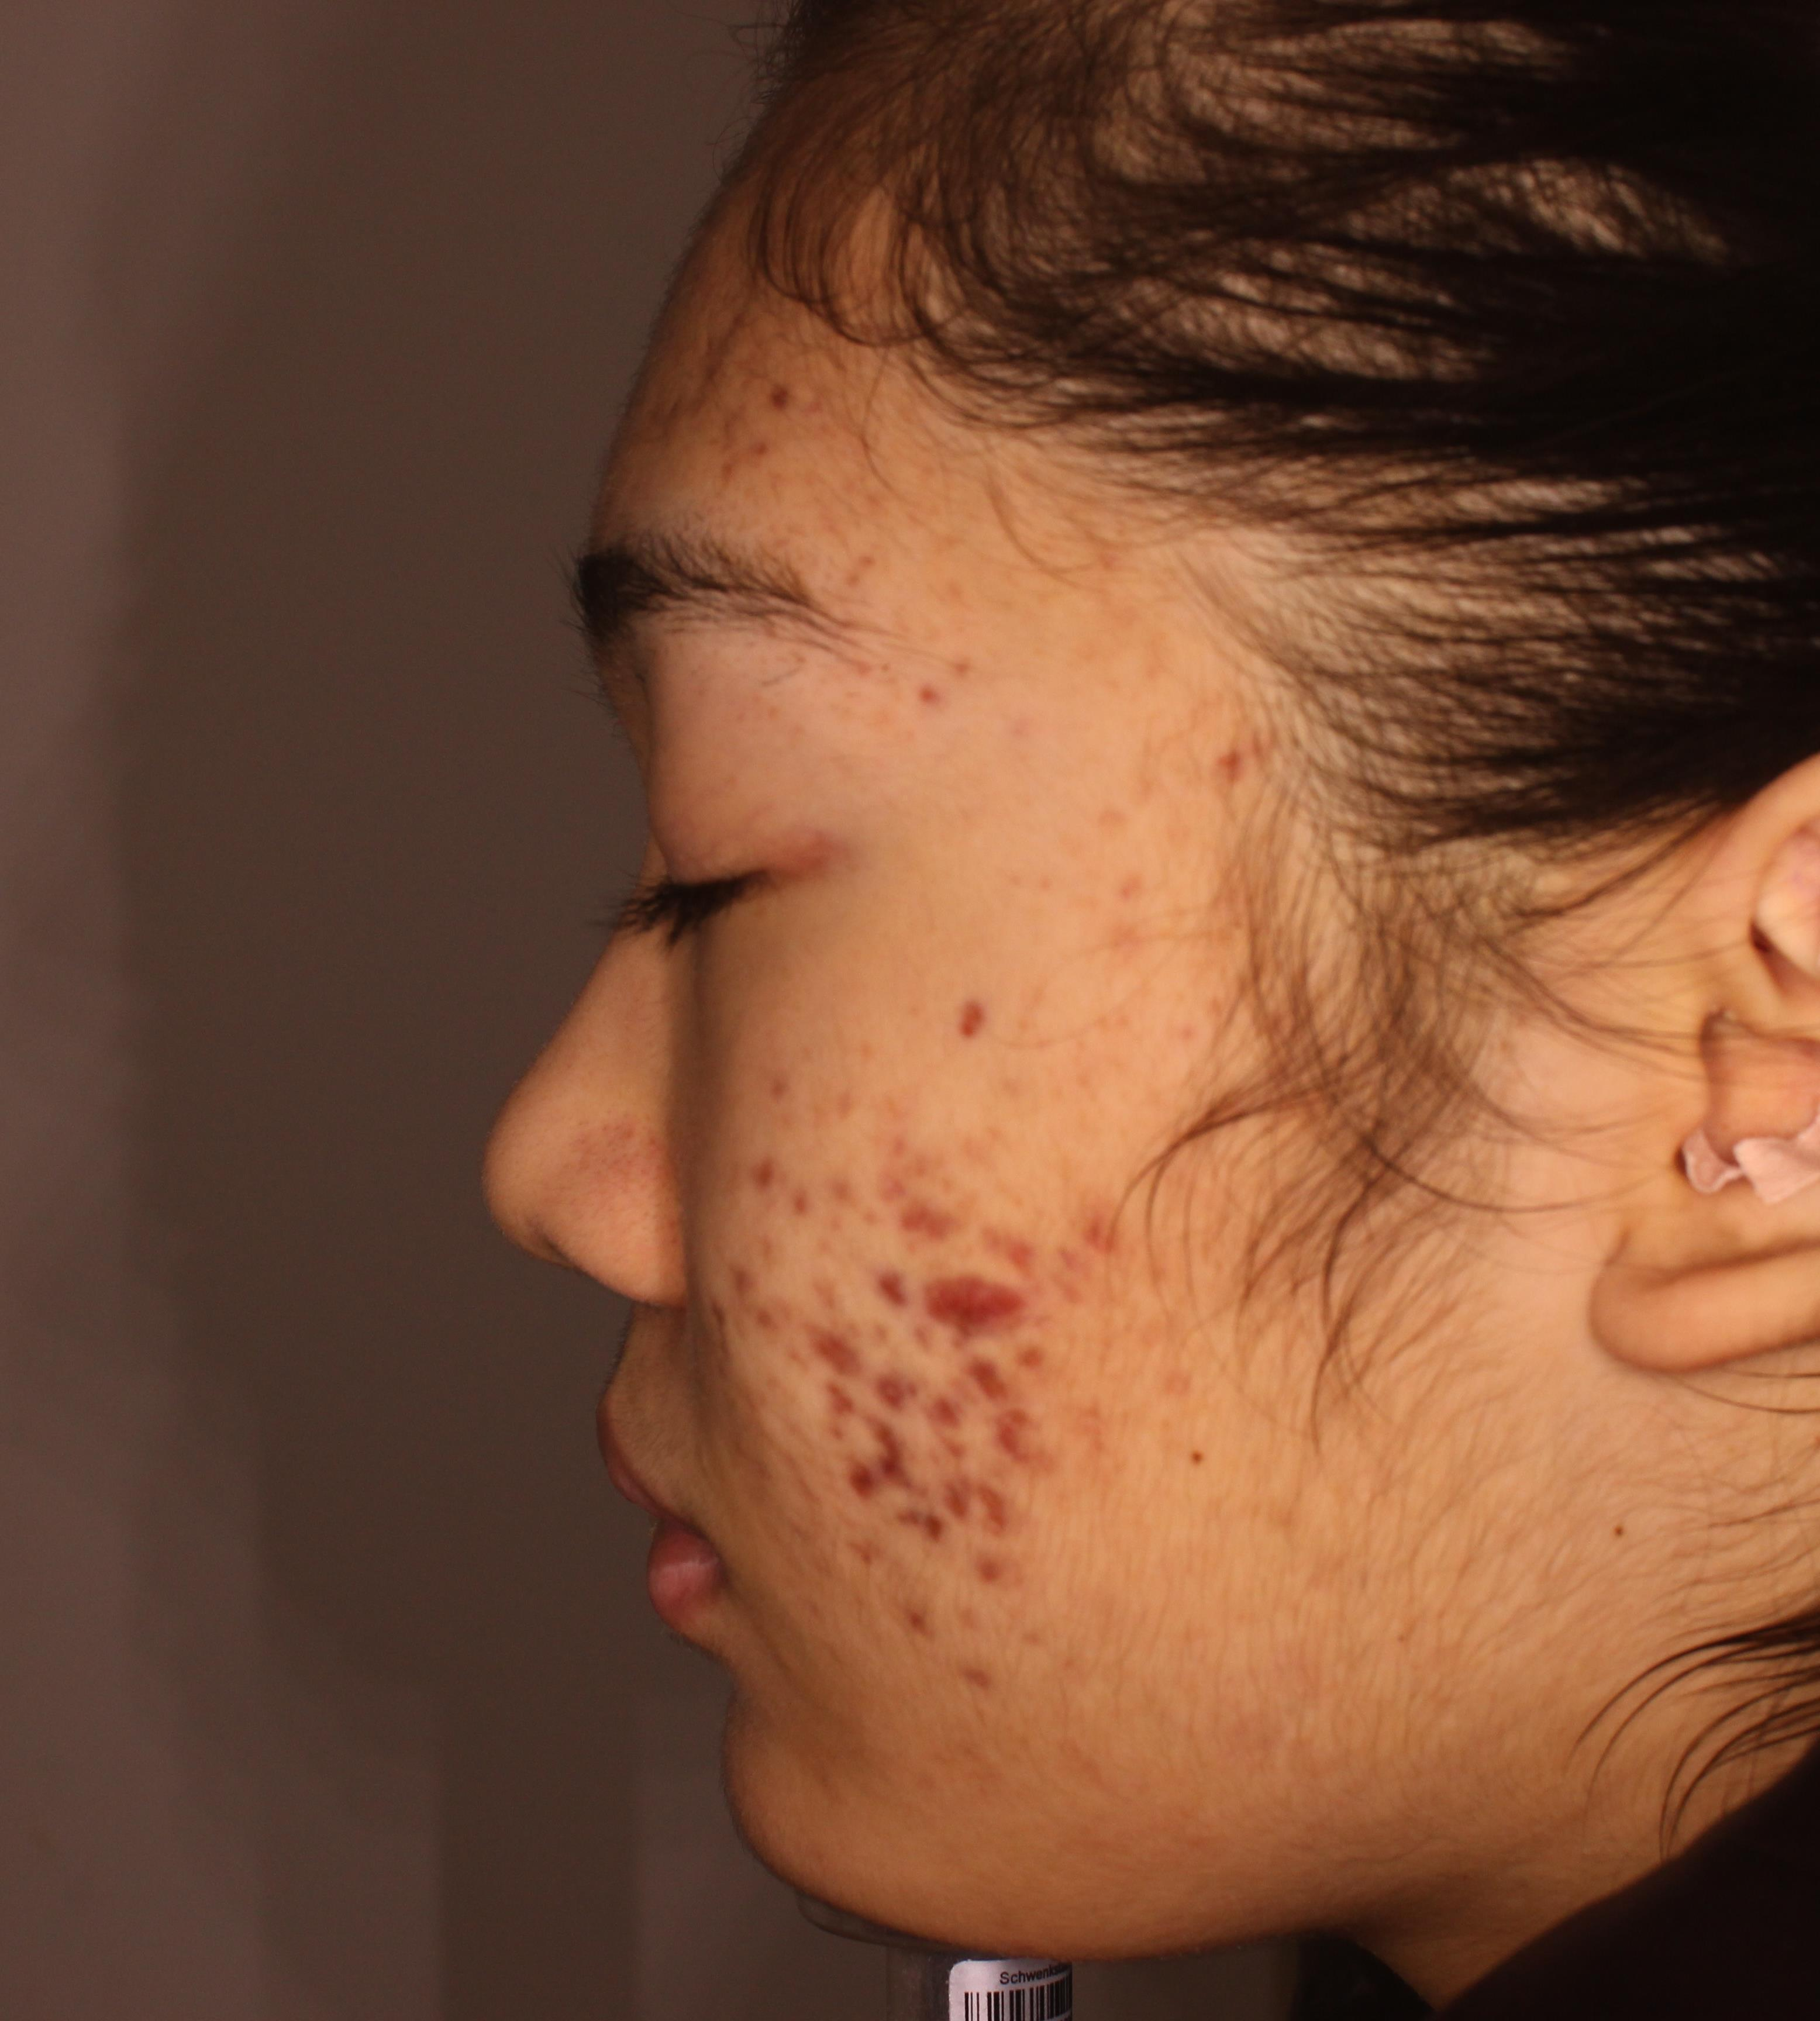fore: (704, 1133, 803, 1248), (942, 985, 1031, 1061), (1210, 711, 1279, 797), (870, 1347, 956, 1406), (699, 1236, 768, 1306), (1094, 1190, 1158, 1266), (982, 1392, 1054, 1456), (750, 365, 808, 442), (870, 1141, 947, 1199), (884, 1477, 938, 1557), (884, 1185, 961, 1236), (843, 1415, 906, 1477), (875, 1236, 929, 1303), (1001, 1320, 1068, 1375), (947, 1338, 1005, 1396), (956, 1280, 1028, 1326), (973, 1477, 1019, 1549), (906, 1378, 973, 1428), (987, 1199, 1042, 1257), (956, 1658, 1005, 1719), (812, 1370, 870, 1419), (794, 1312, 857, 1356), (929, 1456, 987, 1500), (892, 1589, 942, 1638), (961, 1545, 1001, 1603)
